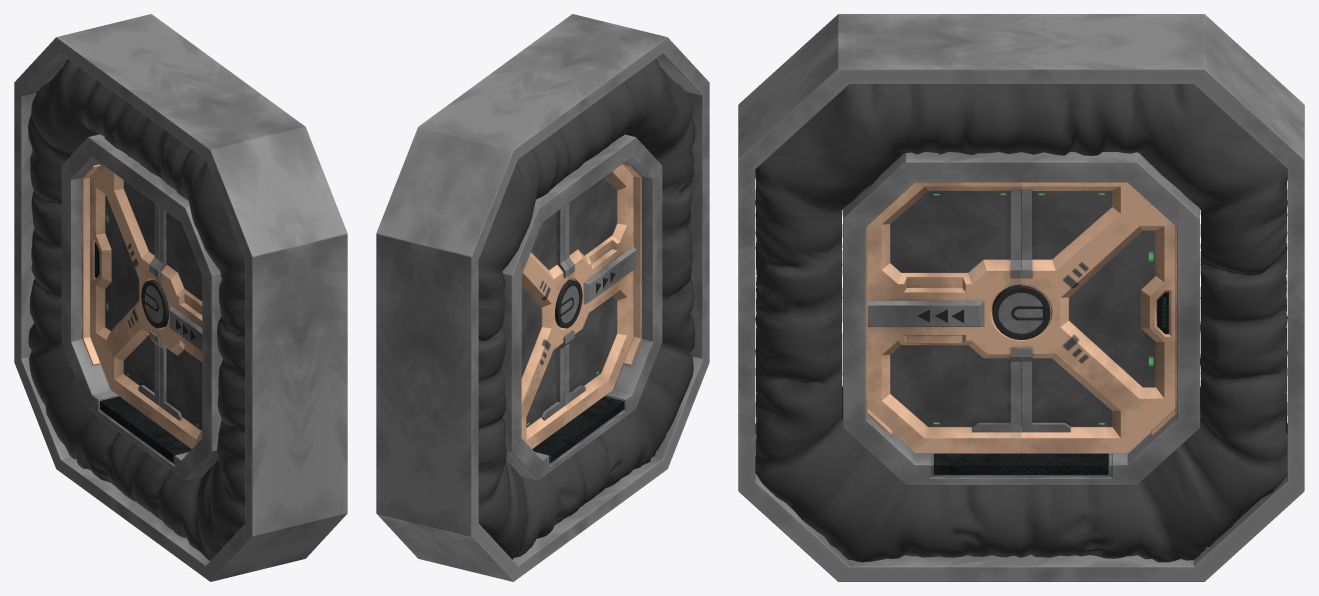
File: Bridge_Door.fbx
3 views of the same model, side by side, from view 1: azimuth 30°, elevation 25°; view 2: azimuth 150°, elevation 25°; view 3: azimuth 270°, elevation 25° (orthographic). The views are drawn at different scales.
Visible parts, largest first — view 1: Sci-fi_Door_Frame, Sci-fi_Door_Fluff, Sci-fi_Door_Door_1, Sci-fi_Door_Door_2, Sci-fi_Door_Valve; view 2: Sci-fi_Door_Frame, Sci-fi_Door_Fluff, Sci-fi_Door_Door_2, Sci-fi_Door_Door_1, Sci-fi_Door_Valve; view 3: Sci-fi_Door_Fluff, Sci-fi_Door_Frame, Sci-fi_Door_Door_1, Sci-fi_Door_Door_2, Sci-fi_Door_Valve.
Boxes of the visible parts, box(x1,y1,x2,y2) form: Sci-fi_Door_Frame: box(14, 14, 347, 581); Sci-fi_Door_Fluff: box(28, 59, 245, 560); Sci-fi_Door_Door_1: box(90, 164, 159, 422); Sci-fi_Door_Door_2: box(154, 206, 202, 448); Sci-fi_Door_Valve: box(141, 280, 168, 328); Sci-fi_Door_Frame: box(376, 14, 709, 581); Sci-fi_Door_Fluff: box(478, 59, 695, 559); Sci-fi_Door_Door_2: box(564, 164, 636, 422); Sci-fi_Door_Door_1: box(521, 206, 569, 448); Sci-fi_Door_Valve: box(555, 279, 582, 328); Sci-fi_Door_Fluff: box(755, 84, 1287, 562); Sci-fi_Door_Frame: box(738, 14, 1304, 581); Sci-fi_Door_Door_1: box(1021, 182, 1175, 453); Sci-fi_Door_Door_2: box(867, 182, 1021, 453); Sci-fi_Door_Valve: box(992, 284, 1050, 339).
Size of what is drawn, in the model's own units: 131 by 485 by 485.
